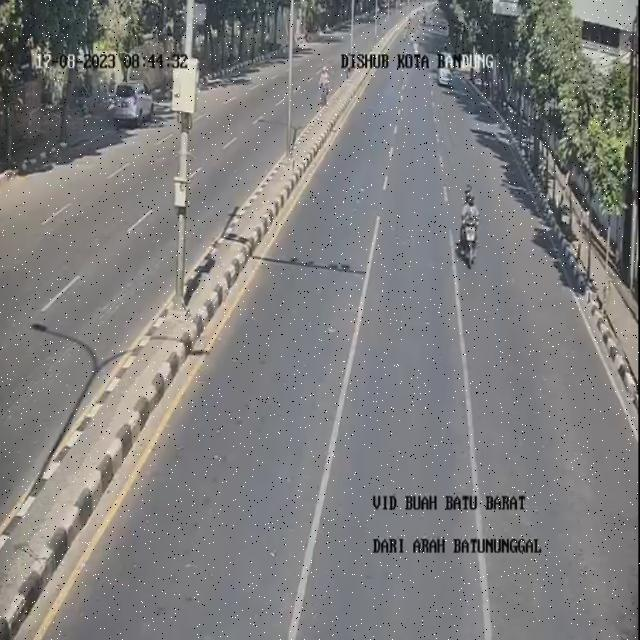motorcycle: (460, 184, 481, 266)
